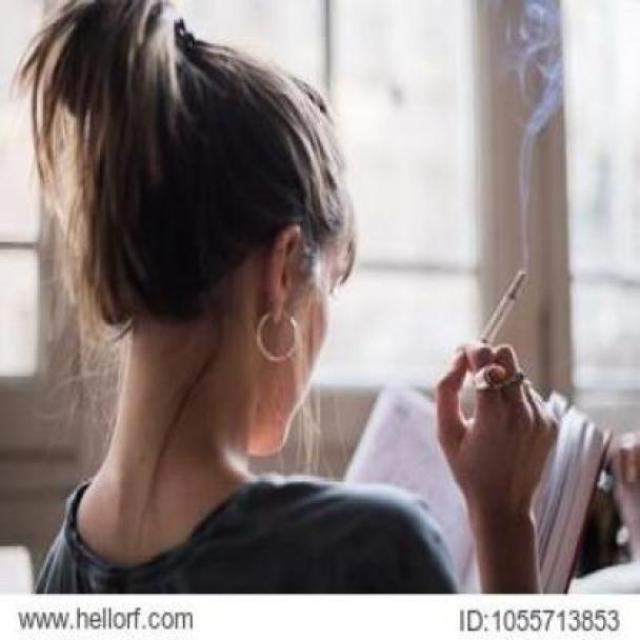rokok: (480, 268, 528, 342)
